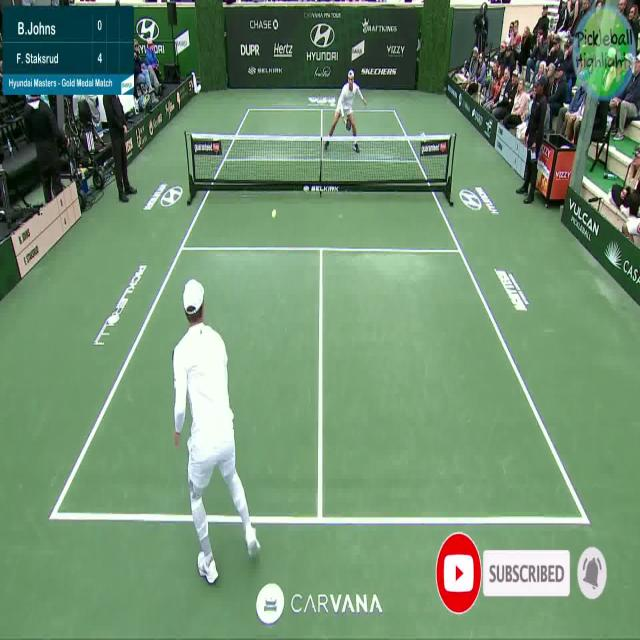ball: (271, 206, 277, 219)
